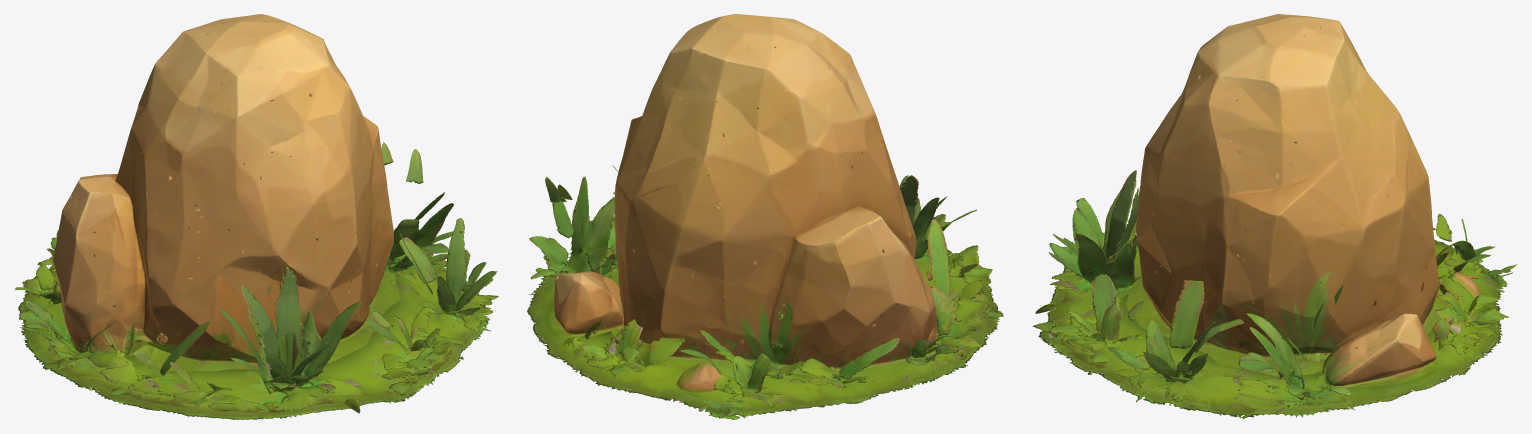
Rendered from Rock_Garden.glb.
3 renders of one model, left to right at view 1: azimuth 30°, elevation 25°; view 2: azimuth 150°, elevation 25°; view 3: azimuth 270°, elevation 25°, orthographic.
Bounding box in the file's own units: 1.88 × 1.26 × 1.81.
1 material, 1 textured.
